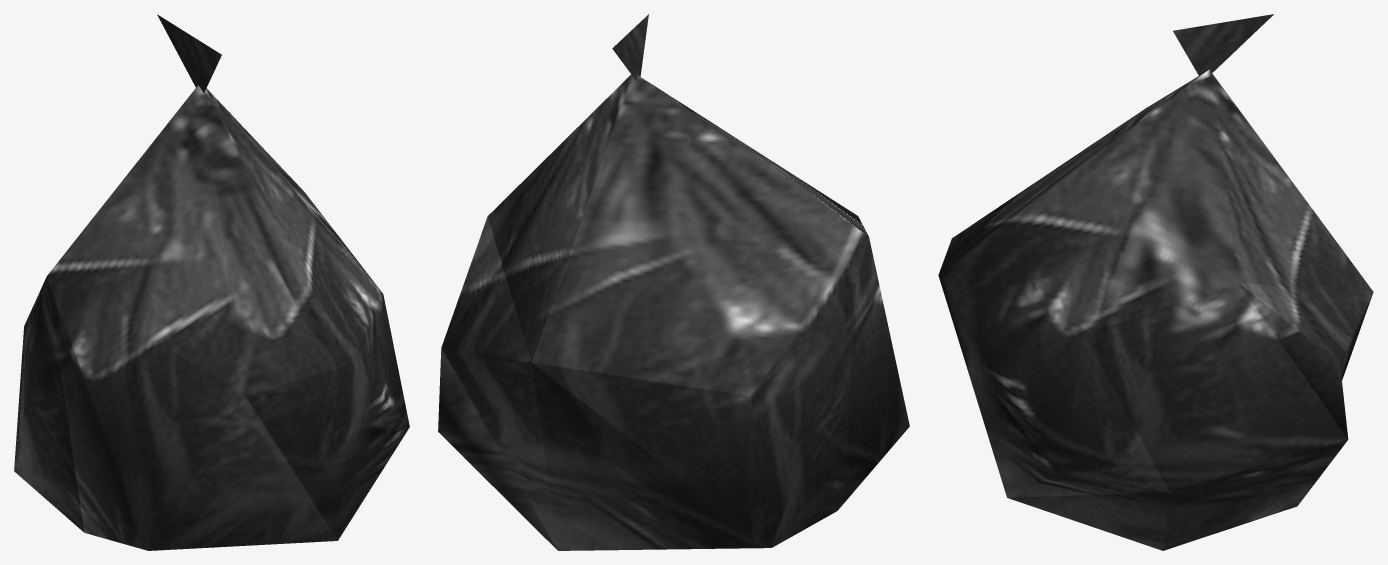
File: saco_lixo.glb
3 views of the same model, side by side, from view 1: azimuth 30°, elevation 25°; view 2: azimuth 150°, elevation 25°; view 3: azimuth 270°, elevation 25° (orthographic). The views are drawn at different scales.
Parts seen in each view (by area): view 1: saco_lixo; view 2: saco_lixo; view 3: saco_lixo.
Boxes of the visible parts, x1,y1,x2,y2 form: saco_lixo: (14,14,409,550); saco_lixo: (438,14,909,550); saco_lixo: (938,14,1373,550).
Bounding box in the file's own units: 0.4082 × 0.6 × 0.4649.
1 material, 1 textured.
